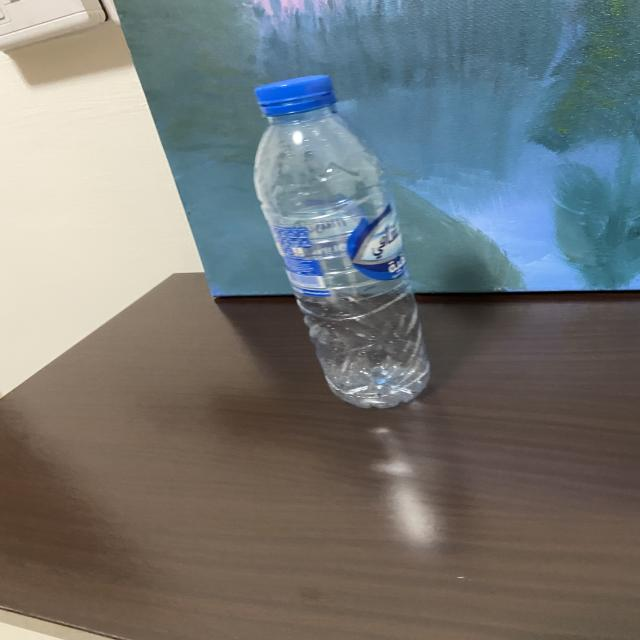bottle: (248, 61, 444, 421)
